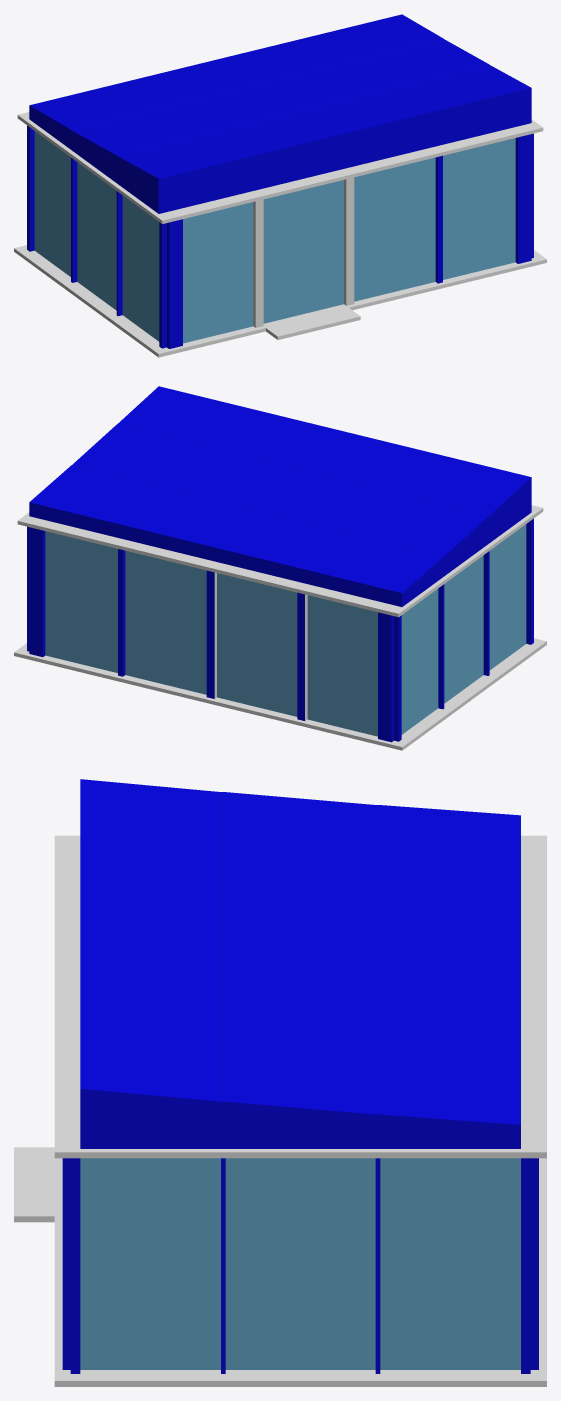
Rendered from darkblueRoof.fbx.
3 views of the same model, one above another, from view 1: azimuth 30°, elevation 25°; view 2: azimuth 150°, elevation 25°; view 3: azimuth 270°, elevation 25° (orthographic). The views are drawn at different scales.
Parts seen in each view (by area): view 1: house28; view 2: house28; view 3: house28.
Part boxes in pixels (x1,y1,x2,y2): house28: [14, 14, 546, 357]; house28: [14, 386, 546, 750]; house28: [14, 779, 546, 1386].
Bounding box in the file's own units: 941 × 397 × 657.
